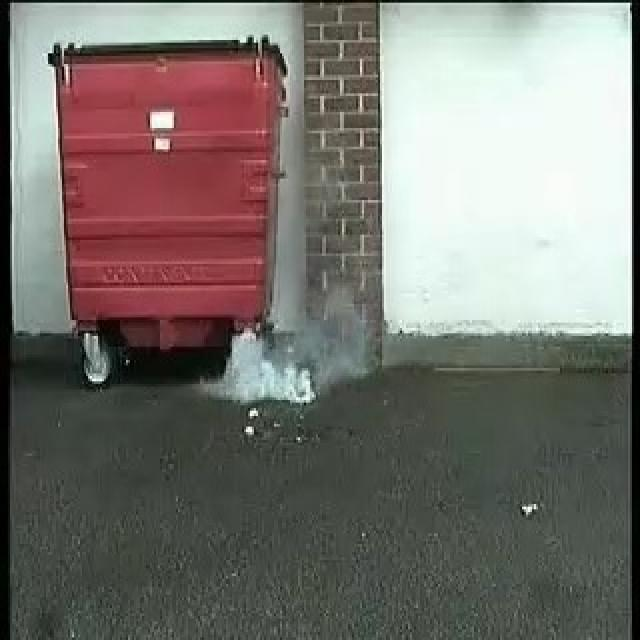smoke: (216, 304, 376, 403)
